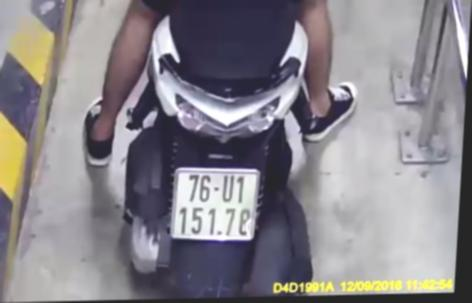License_Plate: (162, 162, 266, 247)
